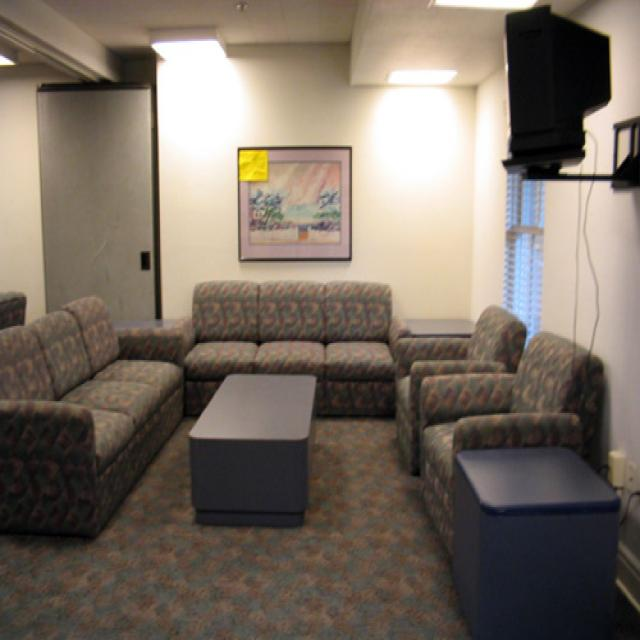chair: (420, 330, 605, 559), (393, 303, 527, 477)
sofa: (1, 294, 185, 540), (183, 277, 409, 421)
tvmonitor: (501, 5, 613, 162)
